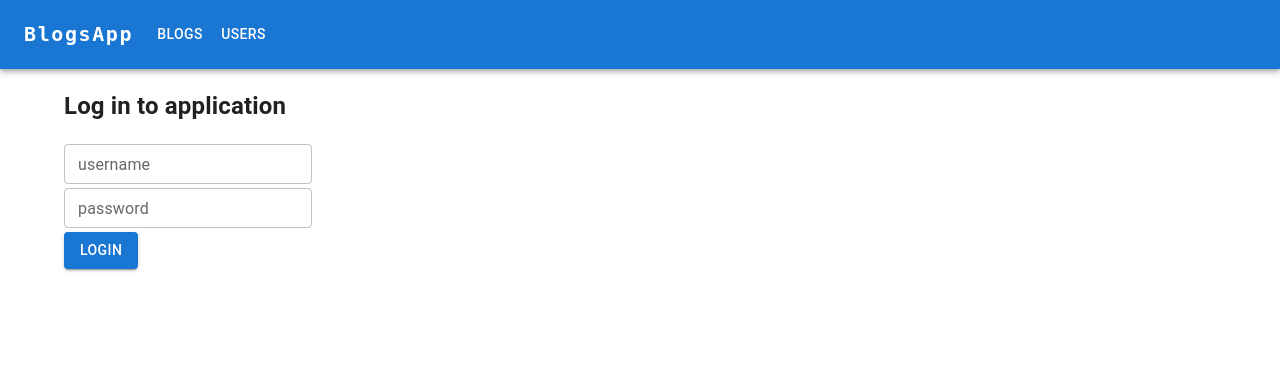
Blog app › Login › fails with wrong credentials
Step 1. Type "tuntematon" into the field with id "username" → (188, 164), box [64, 144, 312, 184]
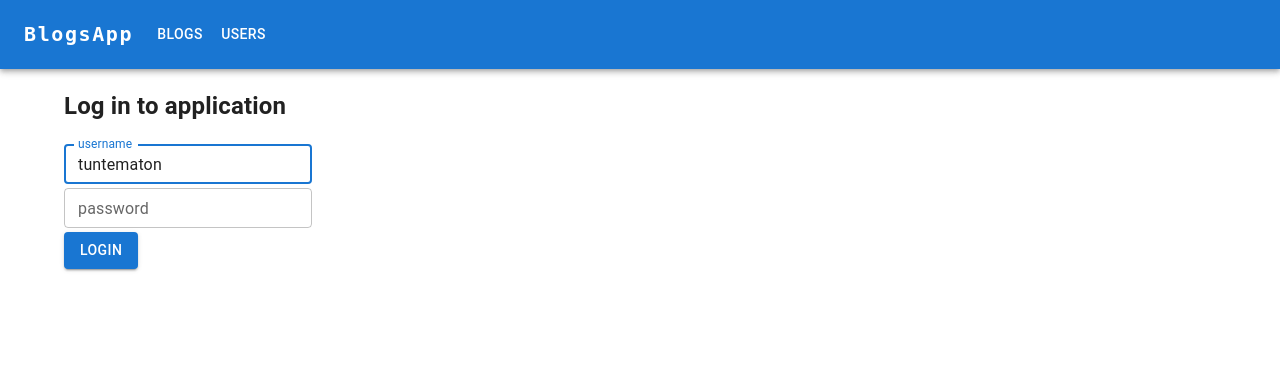
Step 2. Type "ei toimi" into the password field labelled "password" → (188, 208), box [64, 188, 312, 228]
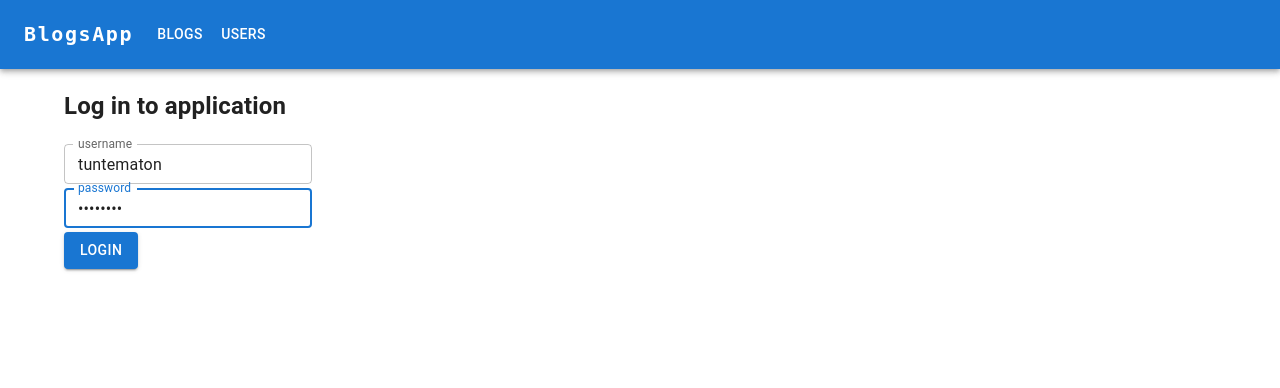
Step 3. Click the button with id "login-button" → (101, 251), box [64, 232, 138, 269]
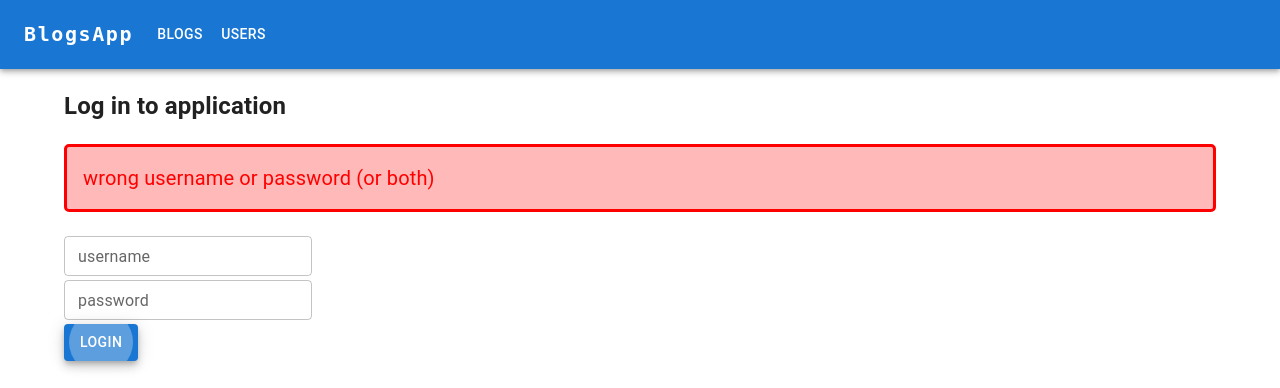
expect the text "wrong username or password" is shown: met, box [83, 166, 435, 190]
